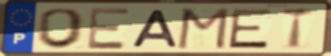A: (129, 8, 180, 48)
E: (86, 6, 133, 51), (226, 8, 274, 50)
M: (175, 7, 232, 51)
O: (34, 7, 88, 50)
T: (280, 7, 316, 51)
